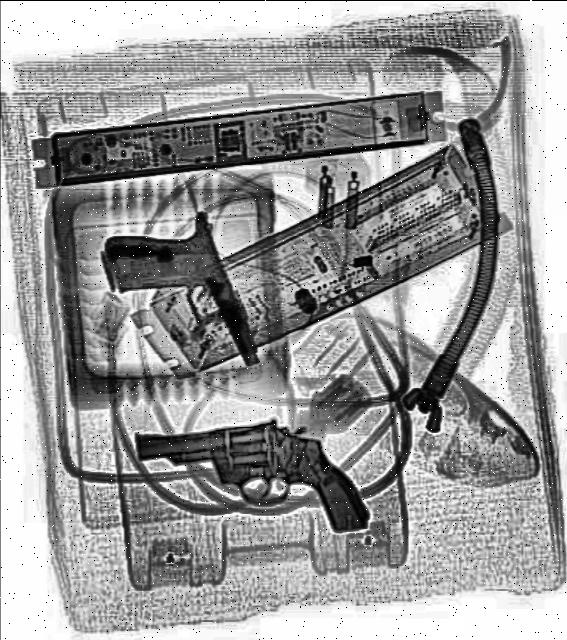Gun: (102, 198, 270, 408), (138, 414, 370, 550)
